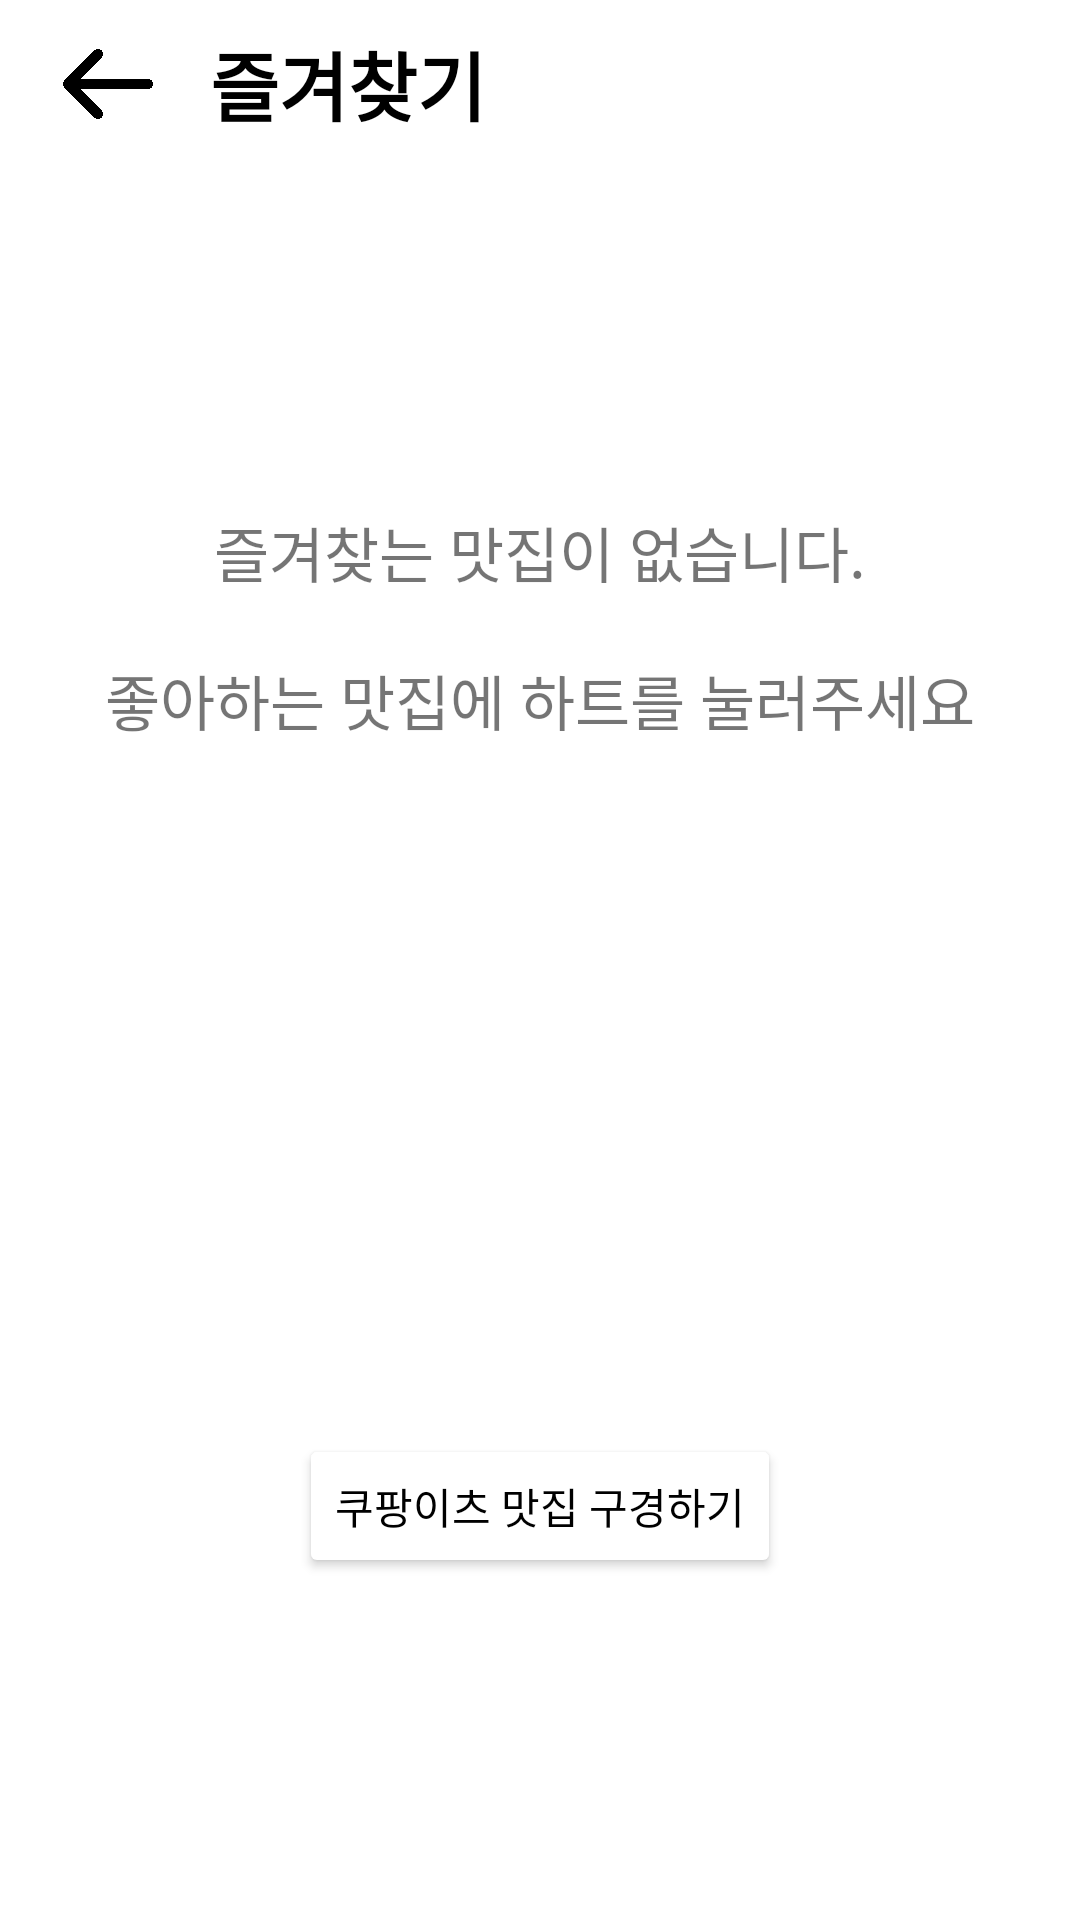

Where icons sit on this 1080w x 1920h app screen, as Rect(x1, y1, x2, y2):
left shape: Rect(63, 49, 153, 119)
